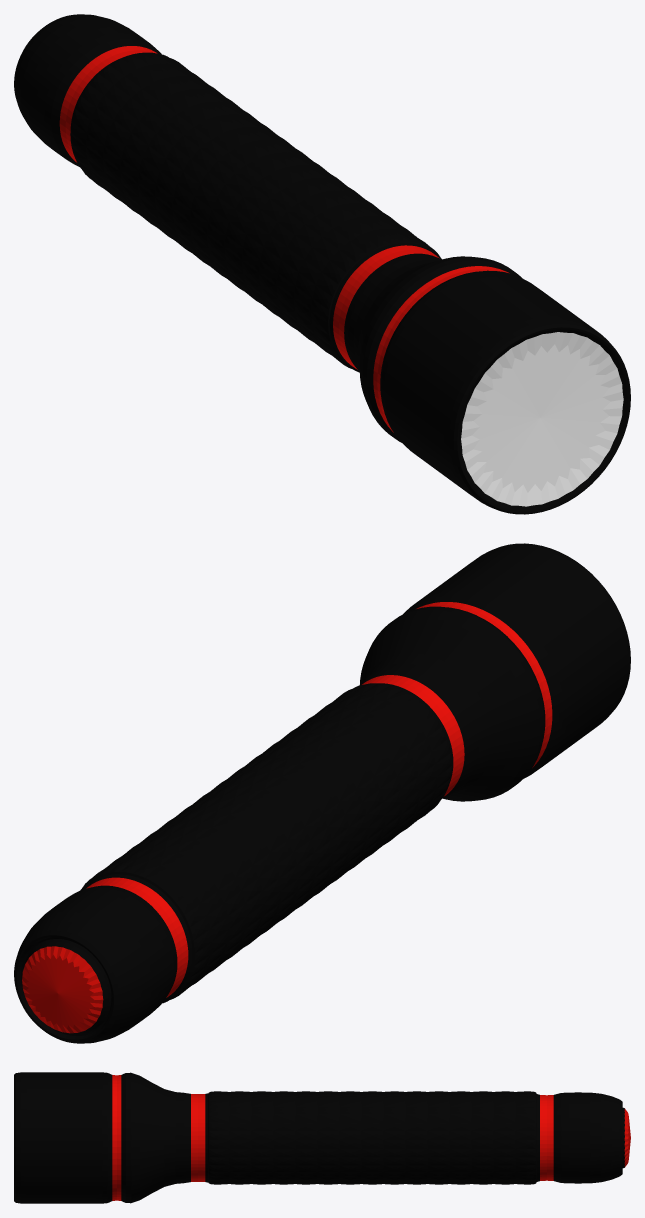
The model's file is torch.fbx.
The picture shows the model from 3 angles, top to bottom: view 1: azimuth 30°, elevation 25°; view 2: azimuth 150°, elevation 25°; view 3: azimuth 270°, elevation 25°; orthographic projection. The views are drawn at different scales.
Visible parts, largest first — view 1: Cylinder; view 2: Cylinder; view 3: Cylinder.
Boxes of the visible parts, x1=… form: Cylinder: x1=14, y1=14, x2=630, y2=514; Cylinder: x1=14, y1=543, x2=630, y2=1043; Cylinder: x1=14, y1=1072, x2=630, y2=1203.
Bounding box in the file's own units: 12.34 × 12.34 × 57.93.
